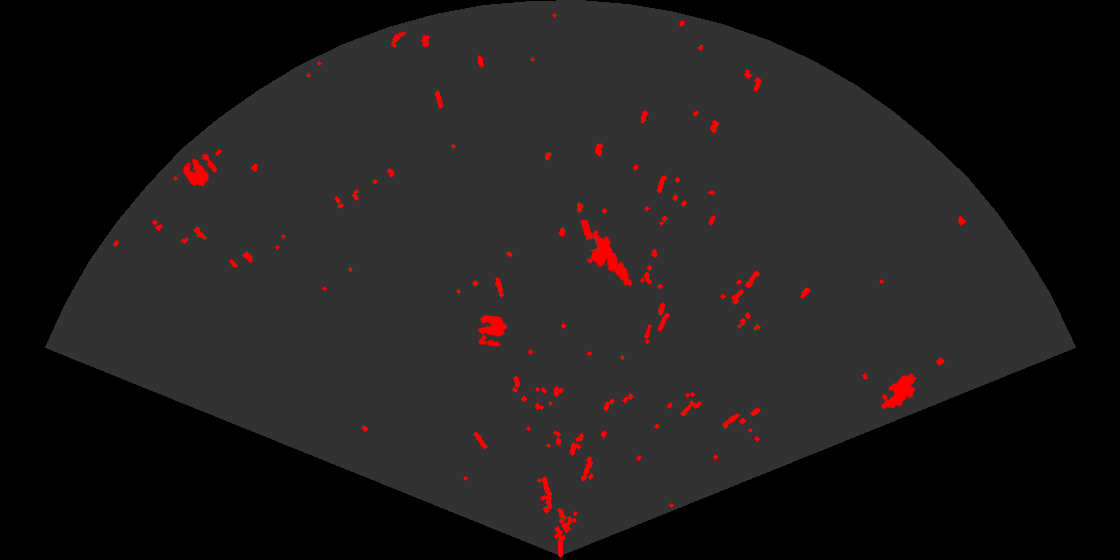AUV: (880, 372, 918, 411)
ball: (181, 152, 219, 188), (476, 313, 509, 348)
frogman: (579, 220, 634, 288)
